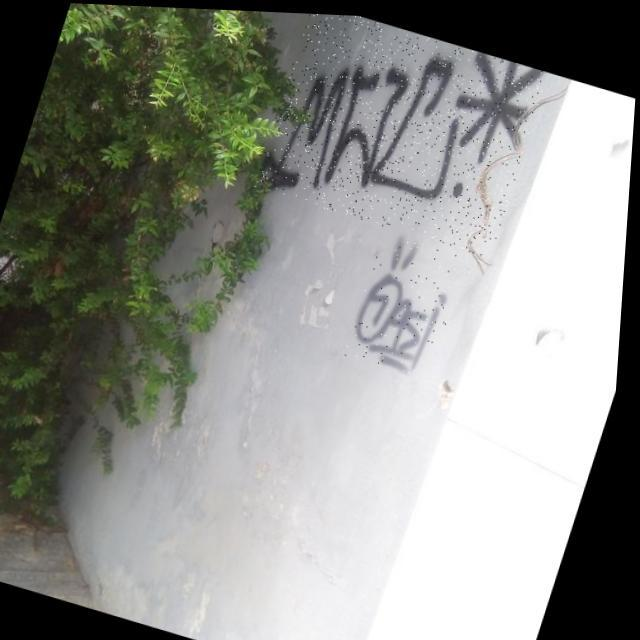-: (252, 9, 551, 254), (347, 228, 471, 378)
